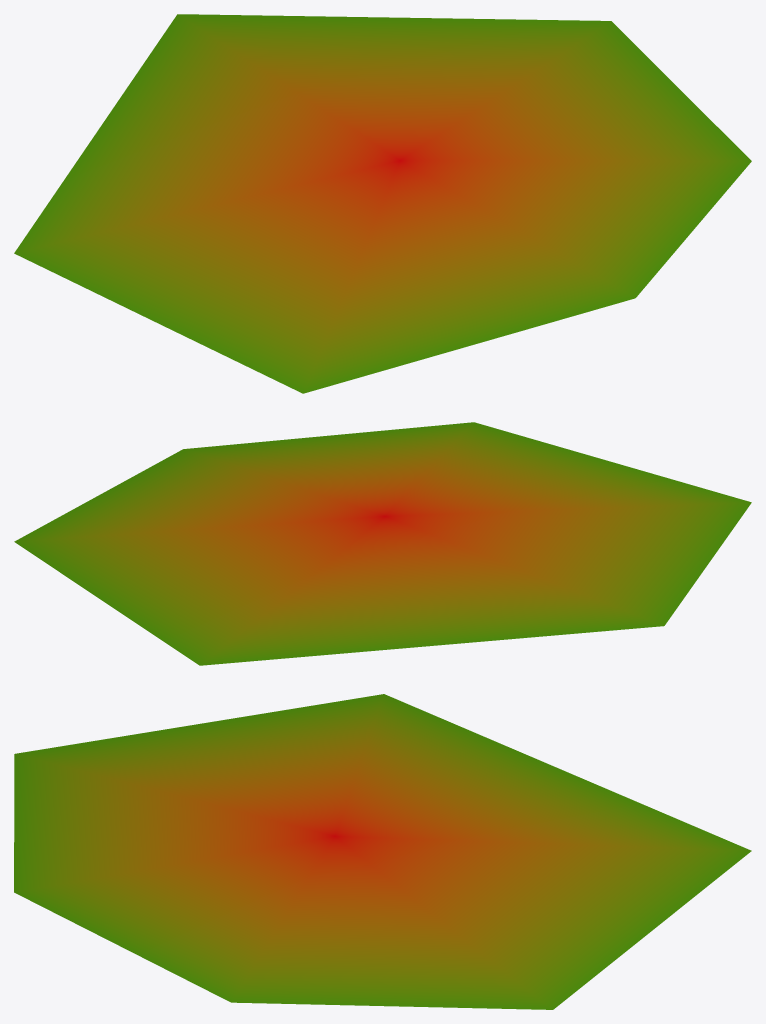
The model's file is Var2_LOD3.fbx.
3 views of the same model, one above another, from view 1: azimuth 30°, elevation 25°; view 2: azimuth 150°, elevation 25°; view 3: azimuth 270°, elevation 25° (orthographic). The views are drawn at different scales.
Visible parts, largest first — view 1: _9fe2_Var2_LOD3; view 2: _9fe2_Var2_LOD3; view 3: _9fe2_Var2_LOD3.
Boxes of the visible parts, x1,y1,x2,y2 form: _9fe2_Var2_LOD3: (14, 14, 751, 393); _9fe2_Var2_LOD3: (14, 422, 751, 665); _9fe2_Var2_LOD3: (14, 694, 751, 1009).
Bounding box in the file's own units: 47.98 × 2.86 × 47.51.
